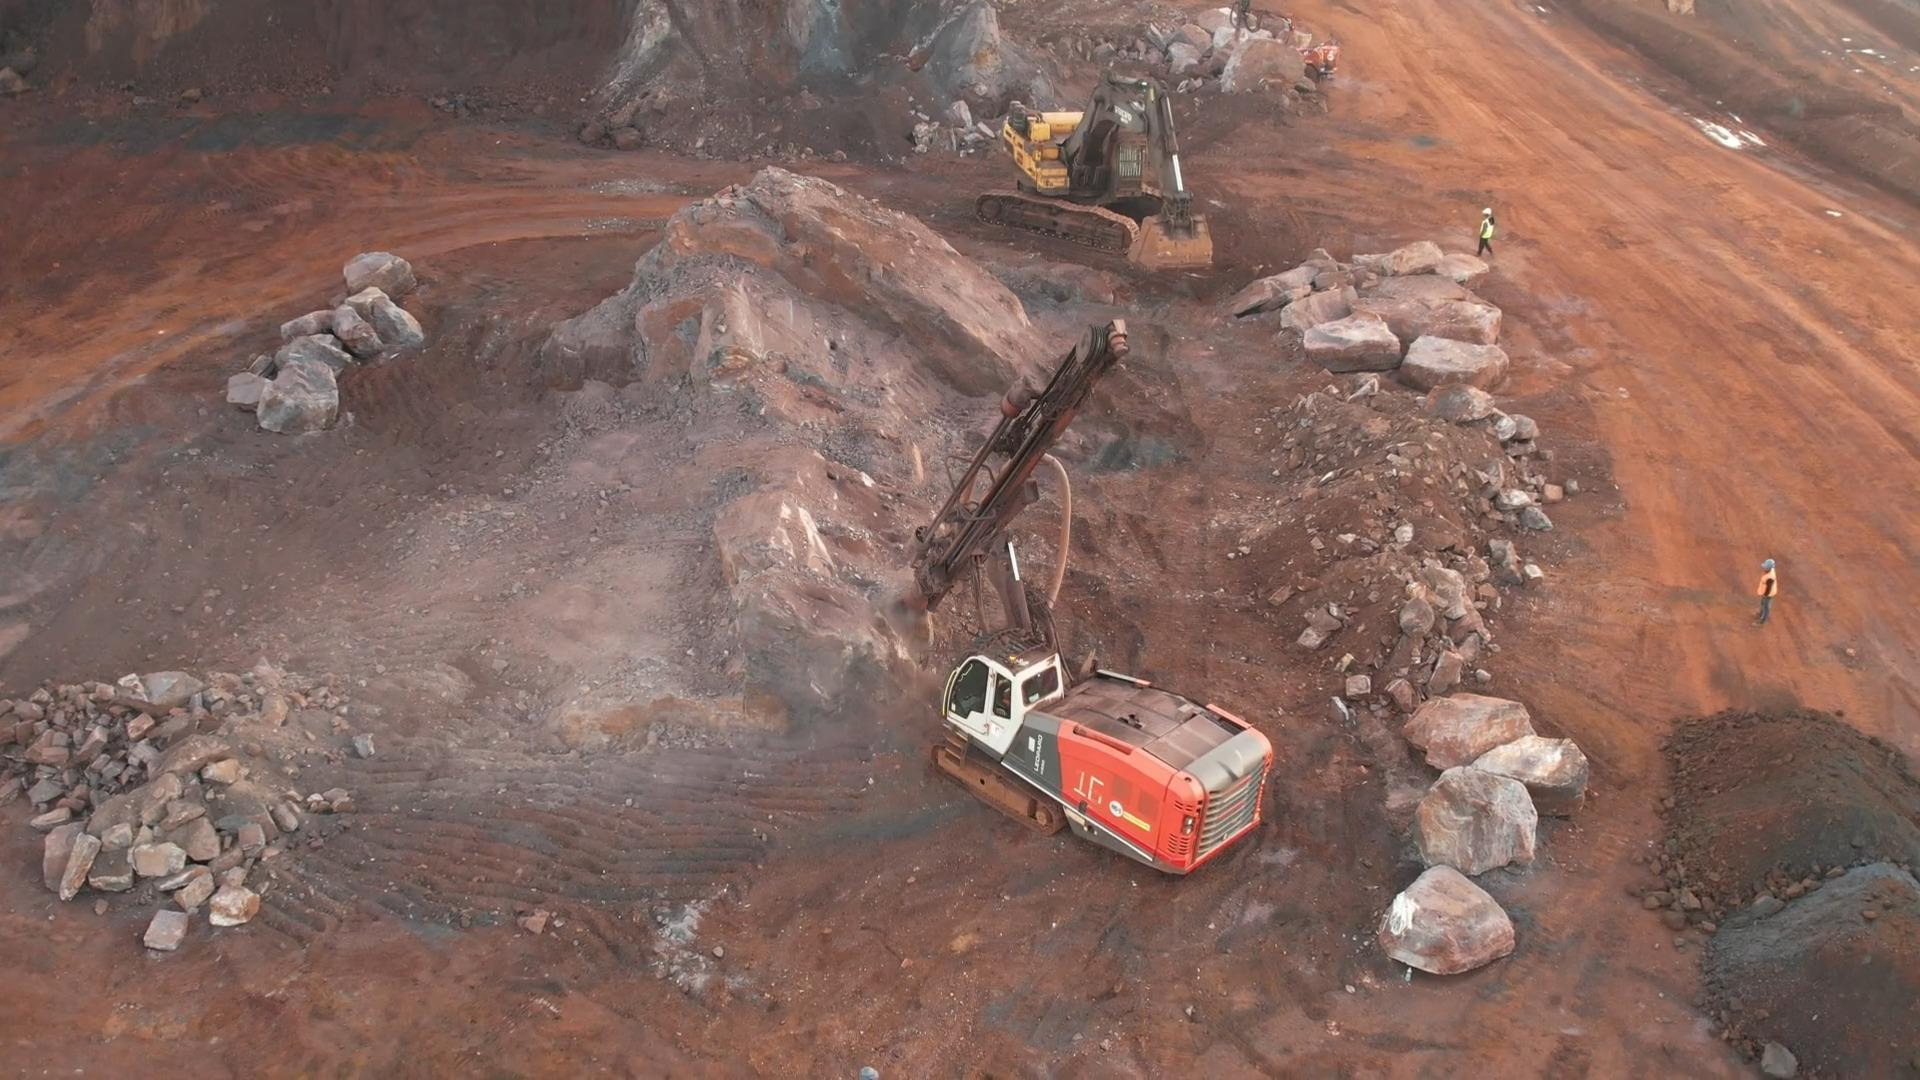excavator: (973, 73, 1216, 268)
